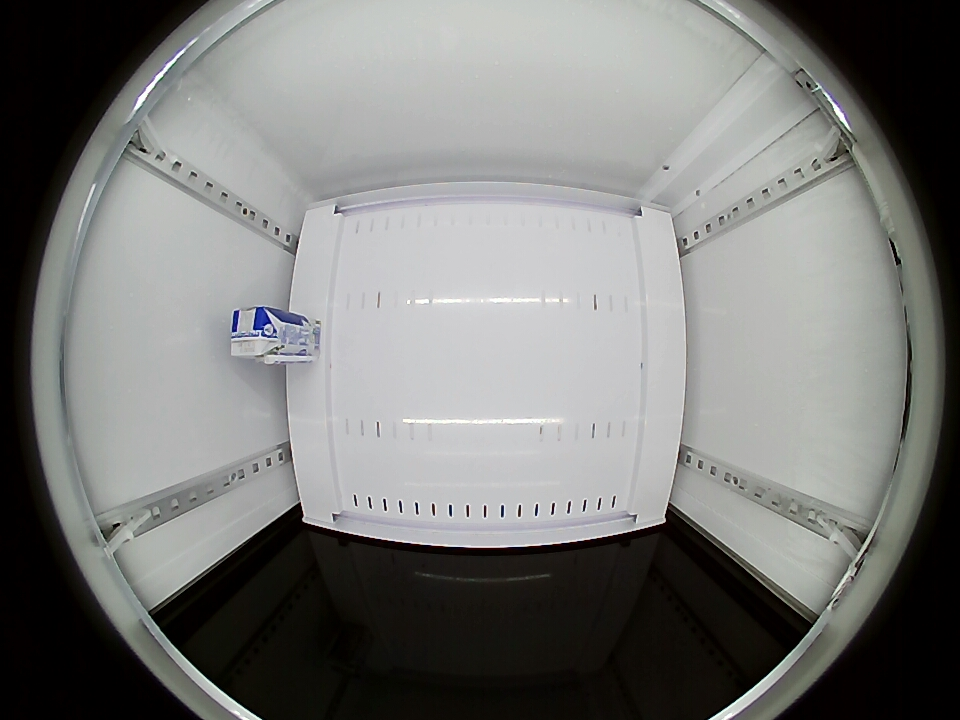anmuxi: (230, 307, 282, 363)
